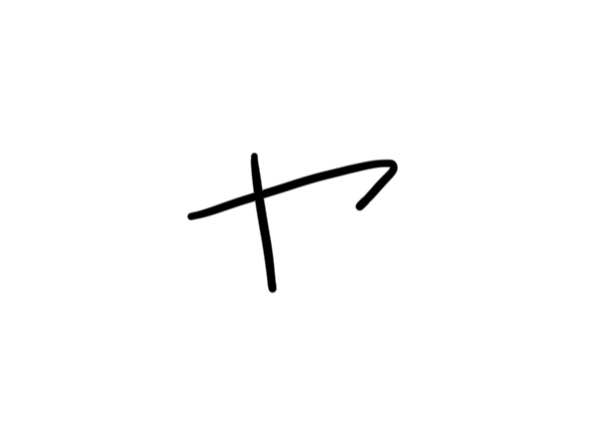ya: (174, 142, 407, 300)
